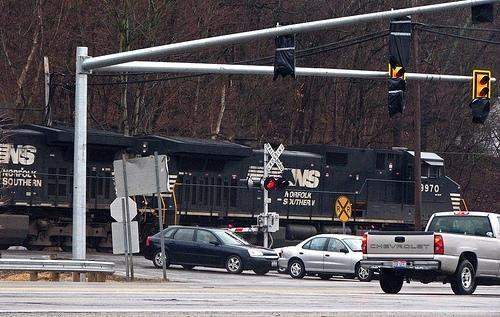car: (144, 225, 282, 277), (278, 234, 372, 282), (273, 246, 293, 274)
truck: (360, 212, 500, 296)
